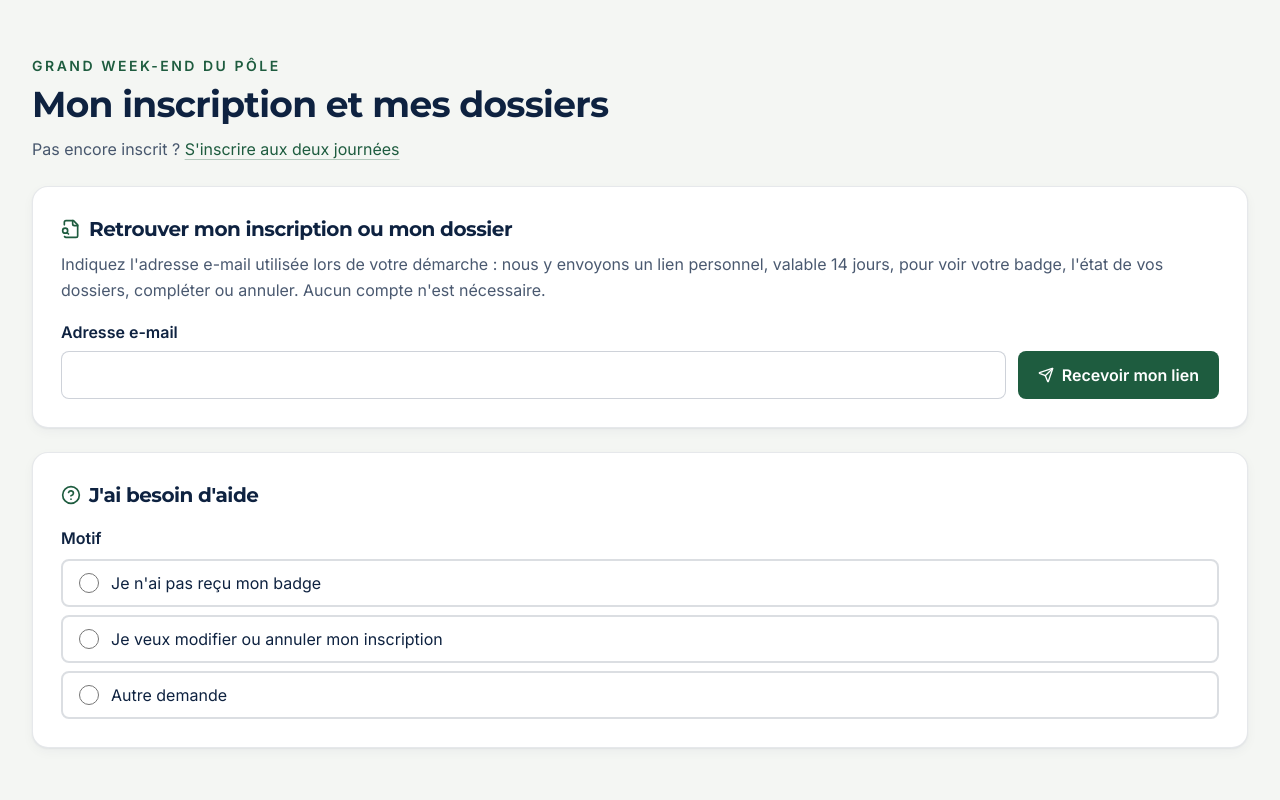
Scenario: Suivi des dossiers sans compte › l'assistance propose d'abord l'action directe
The width and height of the screenshot is (1280, 800).
Click the radio button labelled "Je n'ai pas reçu mon badge" at (89, 583), box [79,573,99,593]
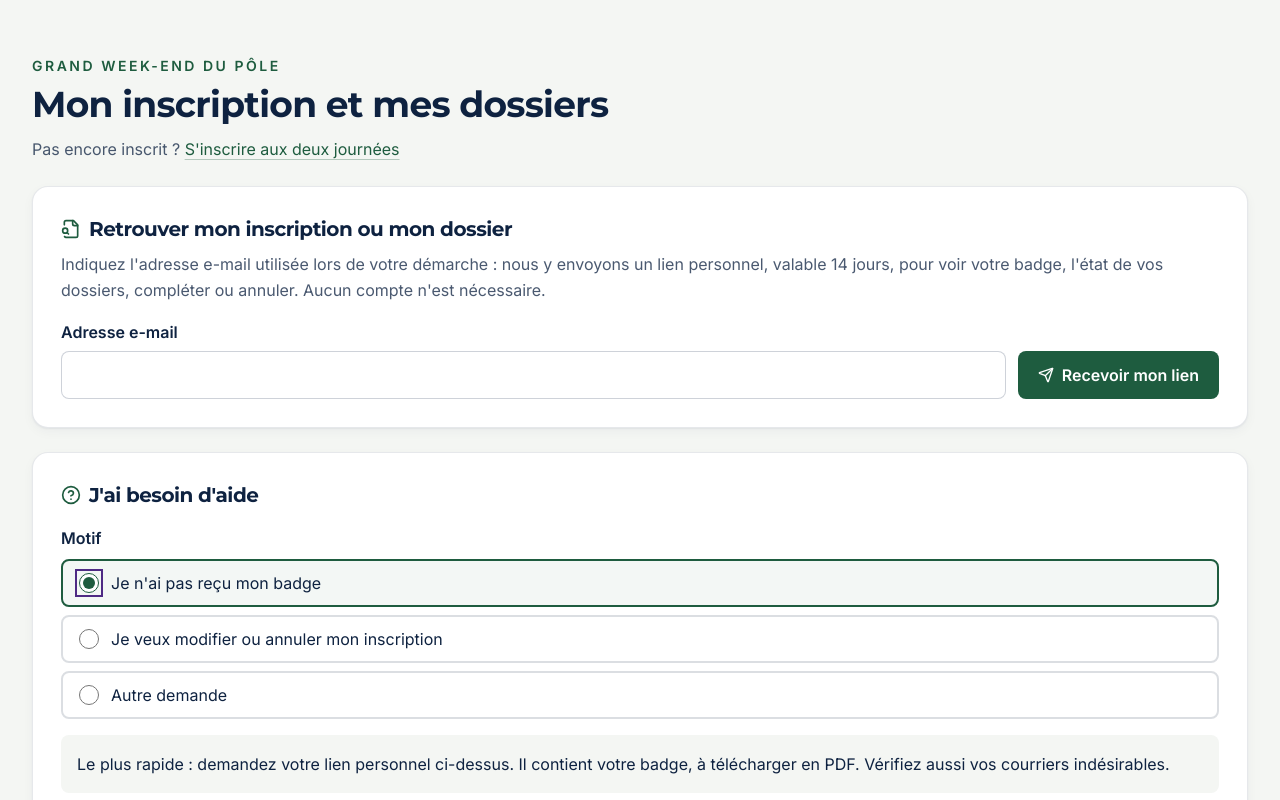
Now the text "Le plus rapide : demandez votre lien personnel" is shown, box [77,754,1170,774]
